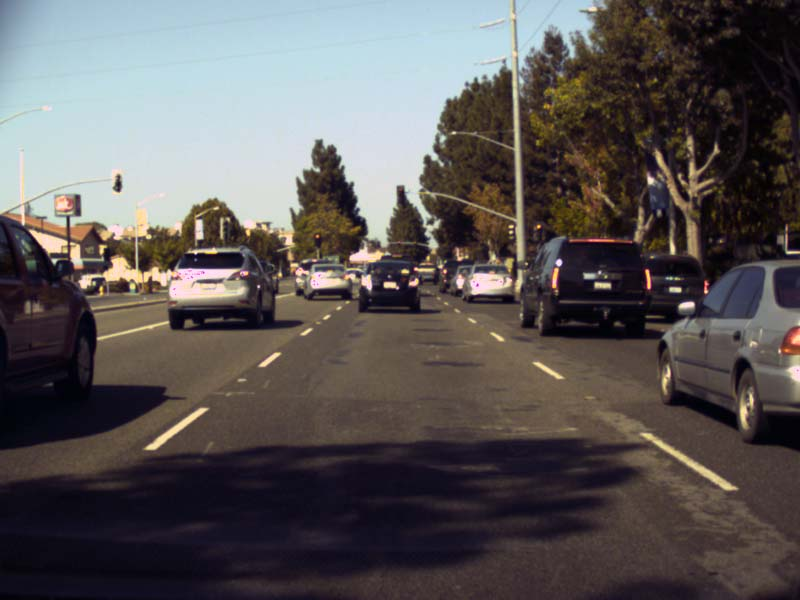Red: (395, 185, 404, 203), (534, 222, 542, 237), (314, 233, 320, 244)
